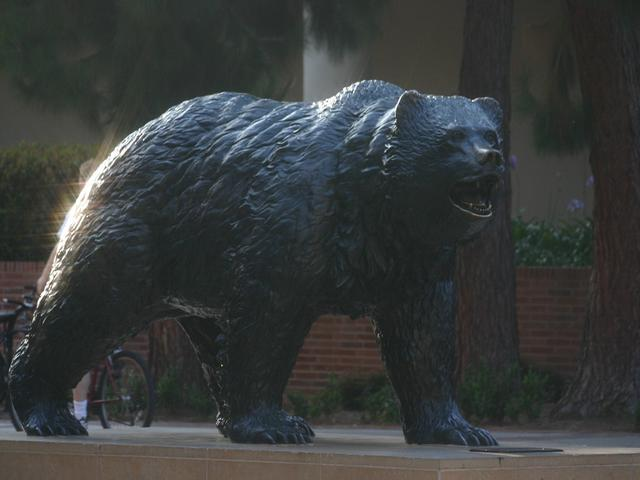Bear: (26, 62, 522, 451)
